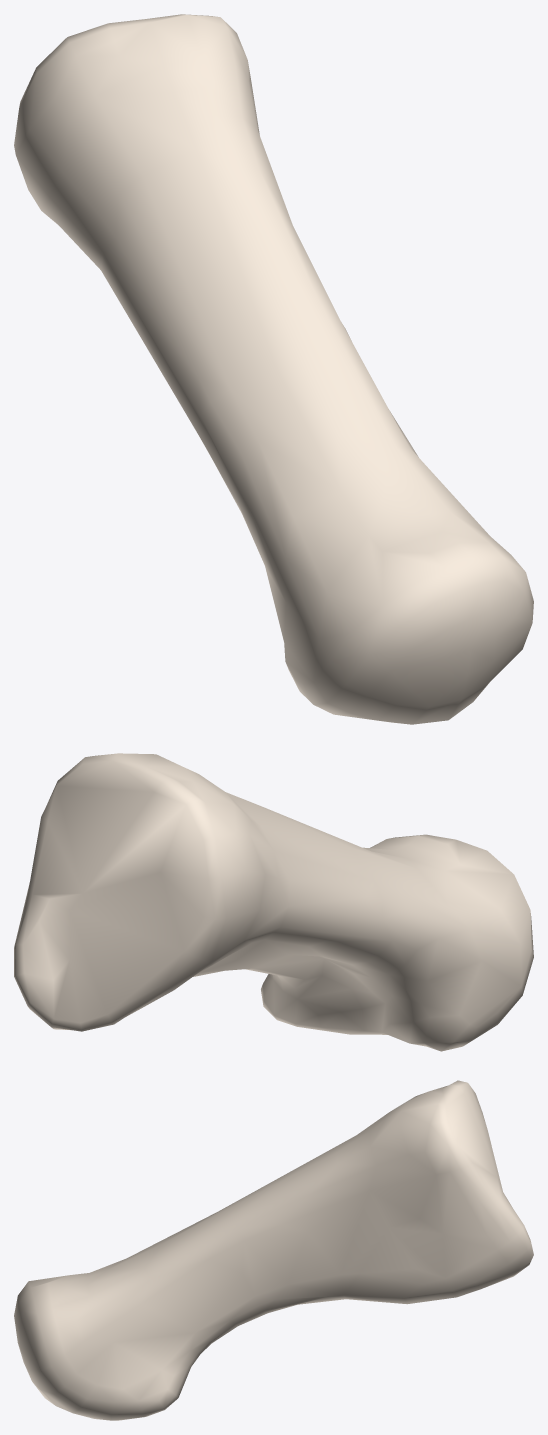
Rendered from left_metatarsal_1.glb.
3 renders of one model, top to bottom at view 1: azimuth 30°, elevation 25°; view 2: azimuth 150°, elevation 25°; view 3: azimuth 270°, elevation 25°, orthographic. The views are drawn at different scales.
Parts seen in each view (by area): view 1: First metatarsal bone.r; view 2: First metatarsal bone.r; view 3: First metatarsal bone.r.
Boxes of the visible parts, bbox=[...] form: First metatarsal bone.r: bbox=[14, 14, 533, 724]; First metatarsal bone.r: bbox=[14, 753, 533, 1051]; First metatarsal bone.r: bbox=[14, 1080, 533, 1420].
Size of the model in its own units: 0.0204 by 0.0425 by 0.0632.
